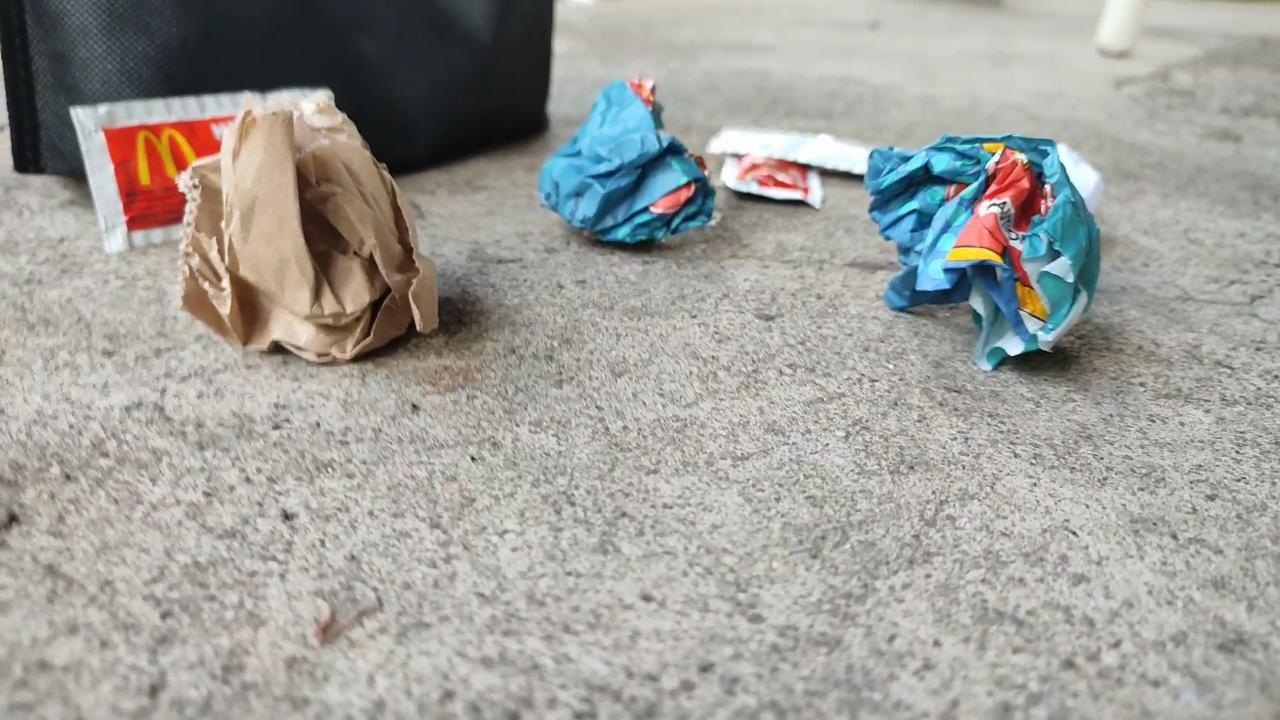Paper: (172, 92, 453, 359), (866, 117, 1113, 370), (532, 65, 729, 255)
